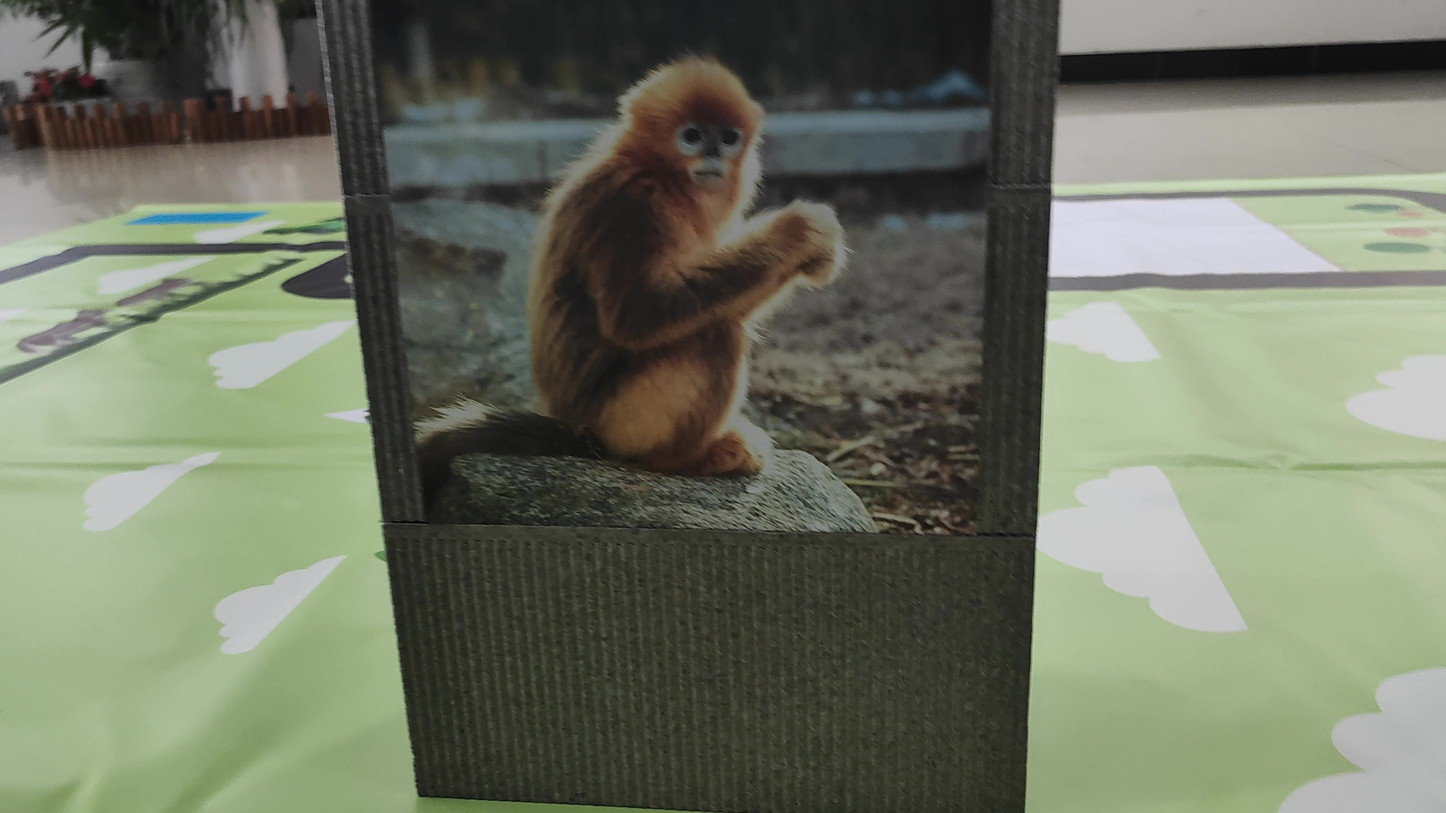monkey: (497, 42, 911, 503)
